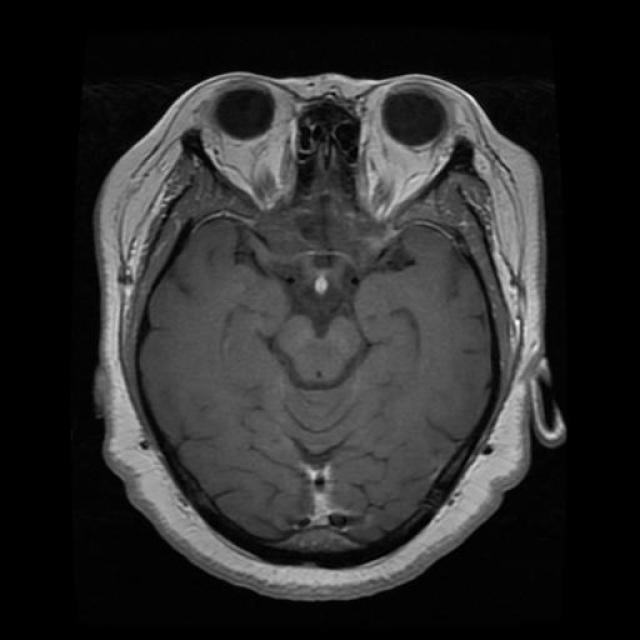pituitary: (288, 256, 352, 301)
